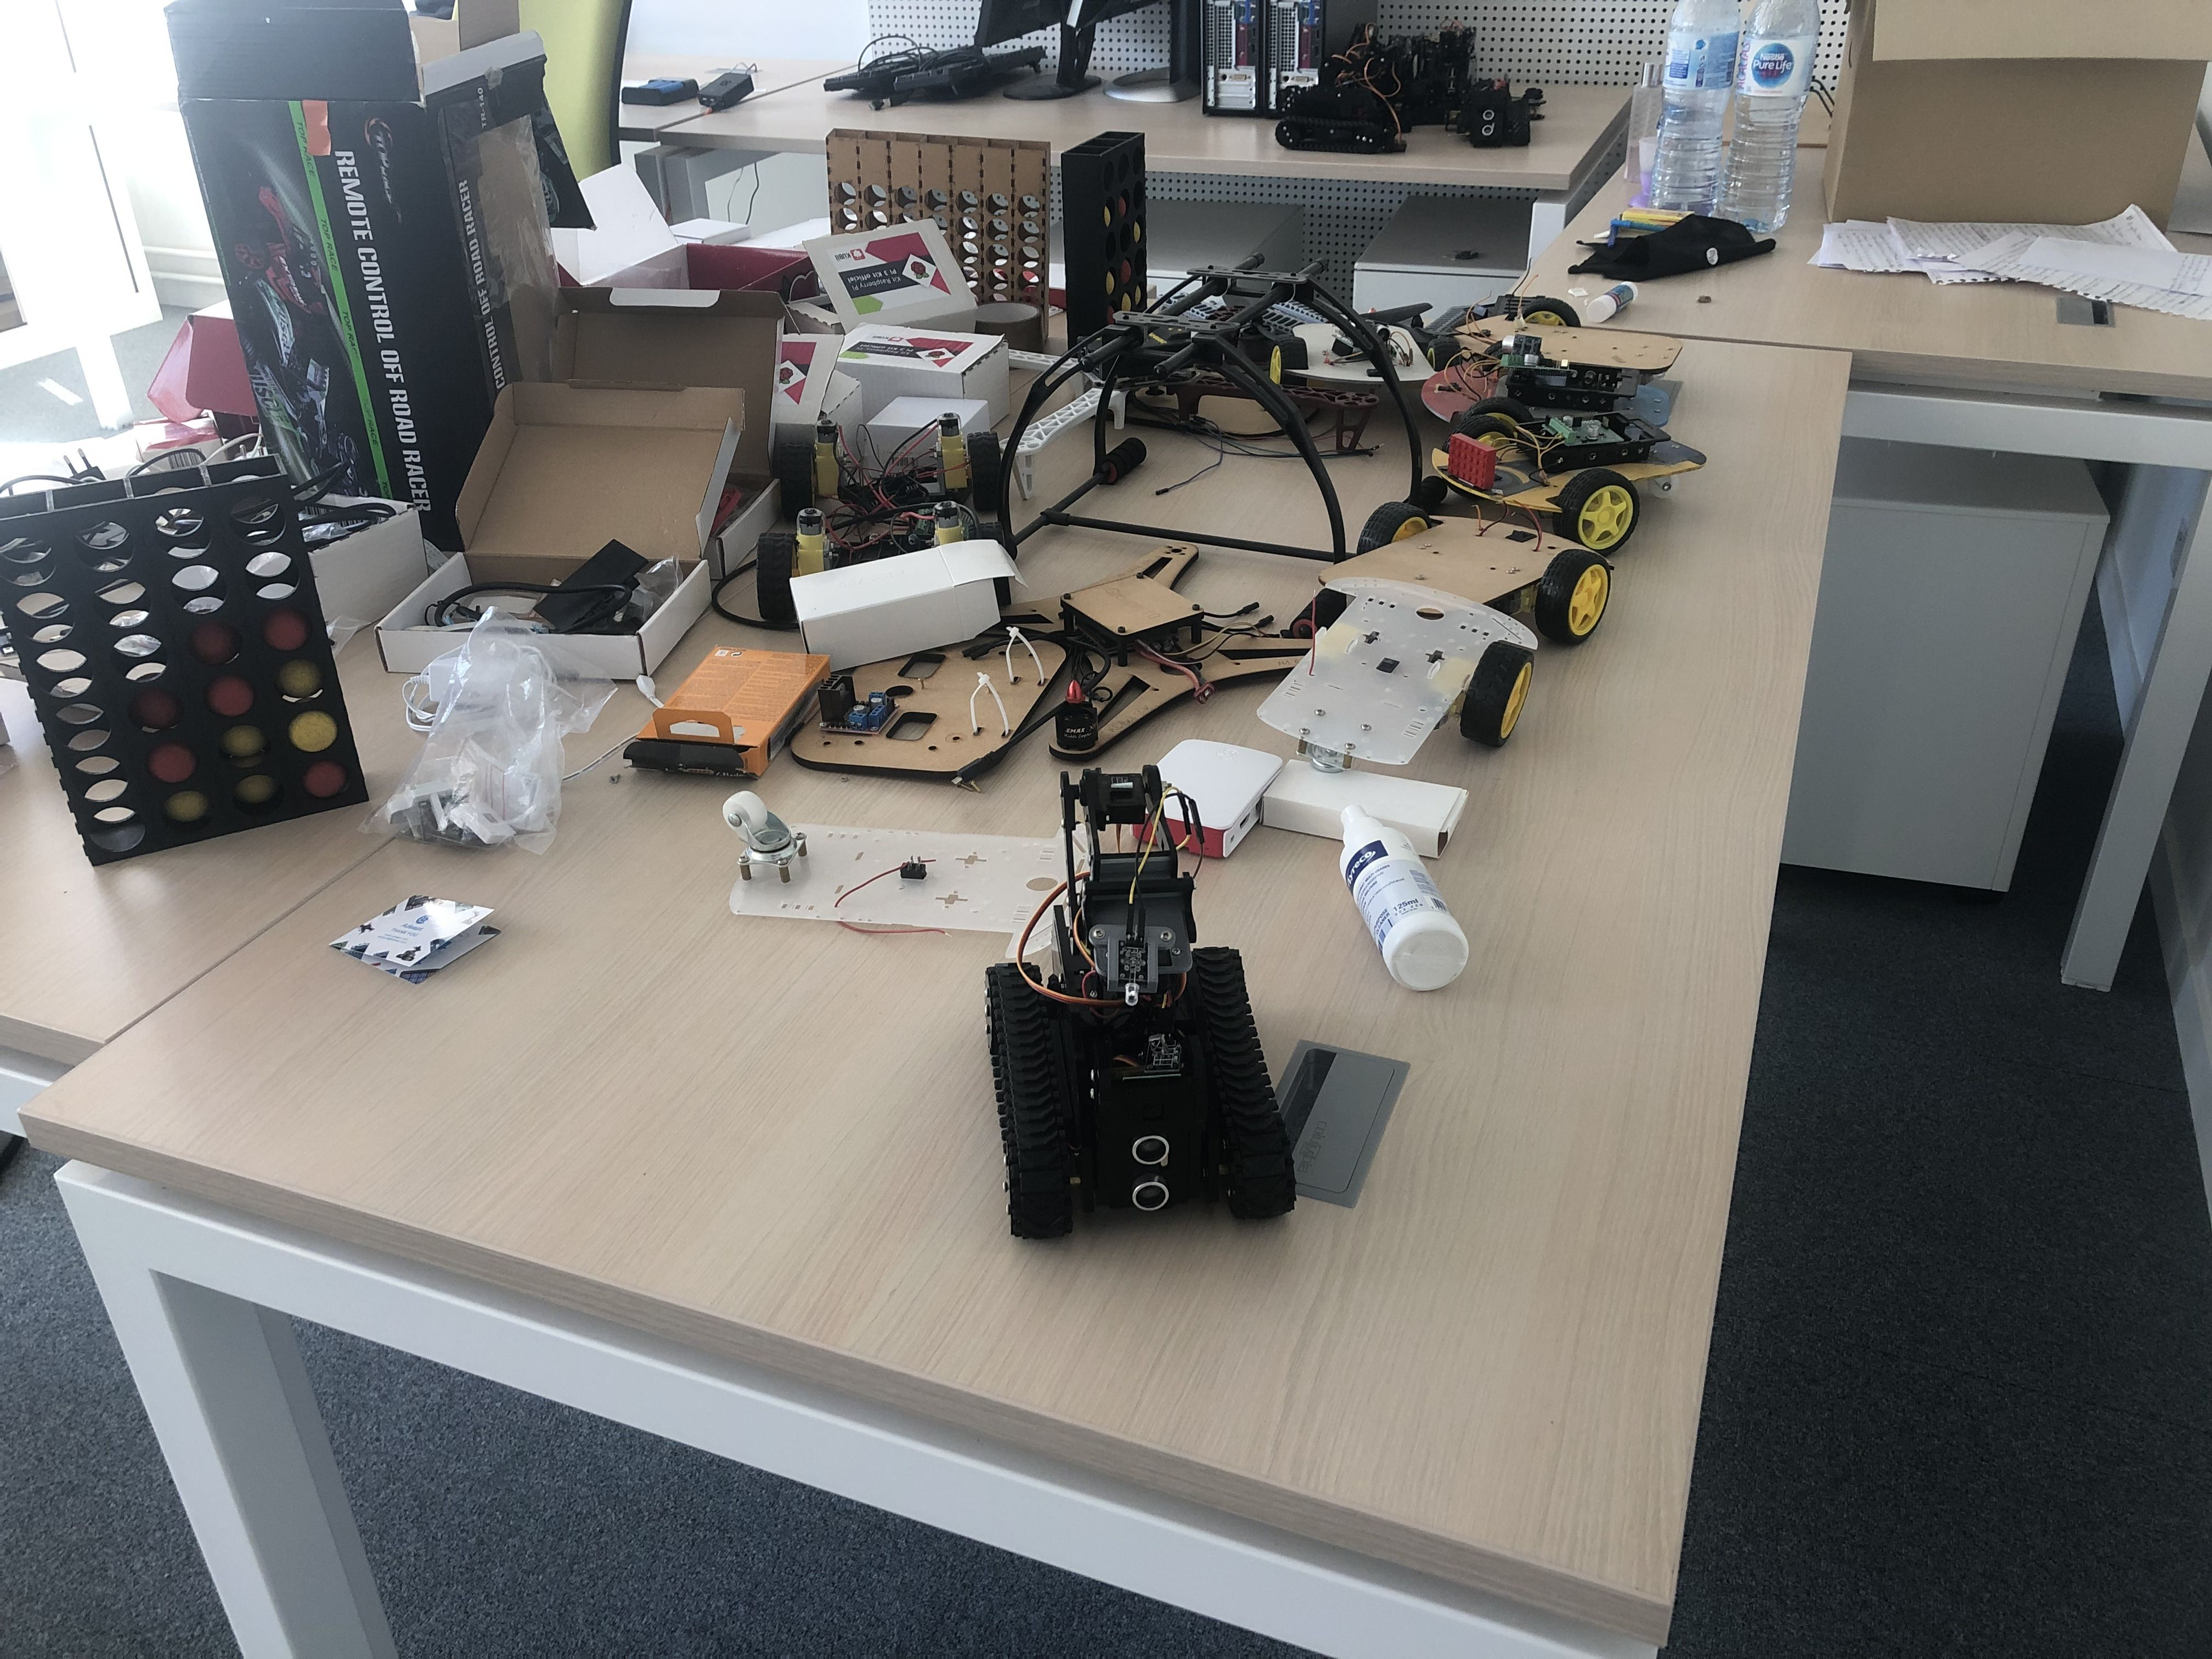rasptank: (984, 769, 1301, 1256)
